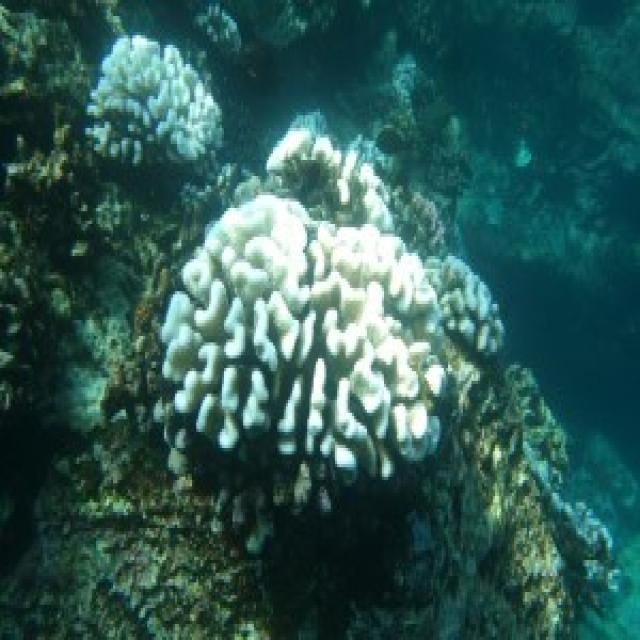Bleached: (161, 197, 449, 489), (91, 32, 226, 175), (269, 112, 395, 230), (432, 252, 507, 368)
Healthy: (1, 430, 267, 635), (454, 376, 618, 640), (2, 5, 91, 360)
